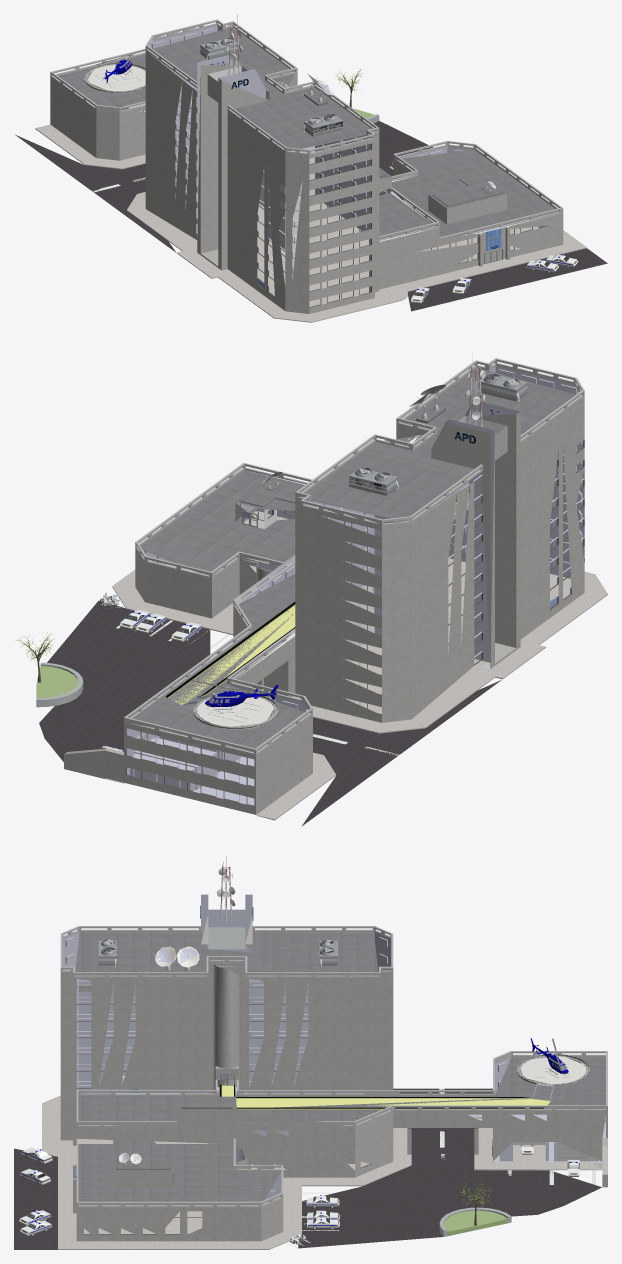
Rendered from police-l1.glb.
3 views of the same model, one above another, from view 1: azimuth 30°, elevation 25°; view 2: azimuth 150°, elevation 25°; view 3: azimuth 270°, elevation 25° (orthographic). The views are drawn at different scales.
Visible parts, largest first — view 1: Material3 (×8), Material2; view 2: Material3 (×9), Material2; view 3: Material3 (×7), Material2.
Part boxes in pixels (<box>): Material3 (×8): <box>15,19,607,322</box>; Material2: <box>88,14,578,303</box>; Material3 (×9): <box>39,358,607,826</box>; Material2: <box>16,353,584,805</box>; Material3 (×7): <box>14,926,607,1249</box>; Material2: <box>19,856,605,1248</box>.
Bounding box in the file's own units: 2480 × 1831 × 3857.
28 materials, 28 textured.
